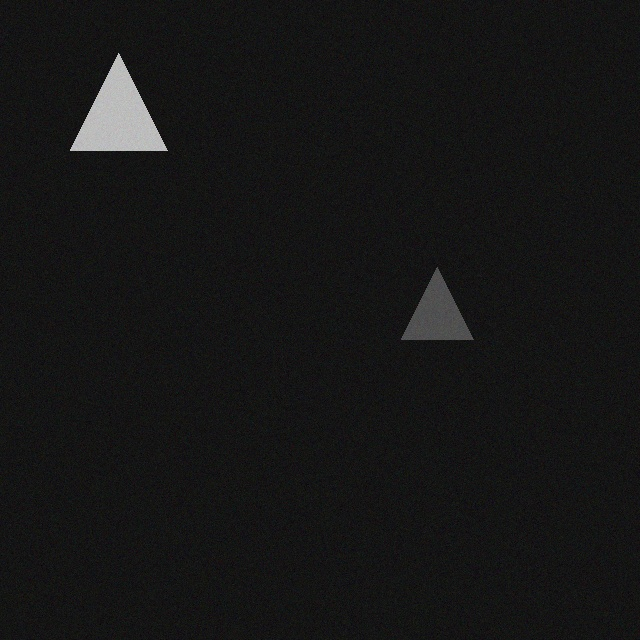triangle: (74, 46, 171, 143), (405, 260, 477, 332)
